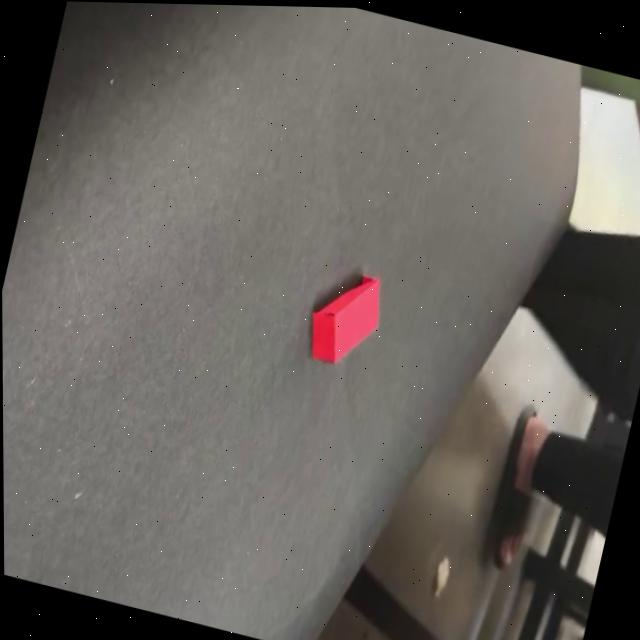red block: (300, 263, 389, 376)
